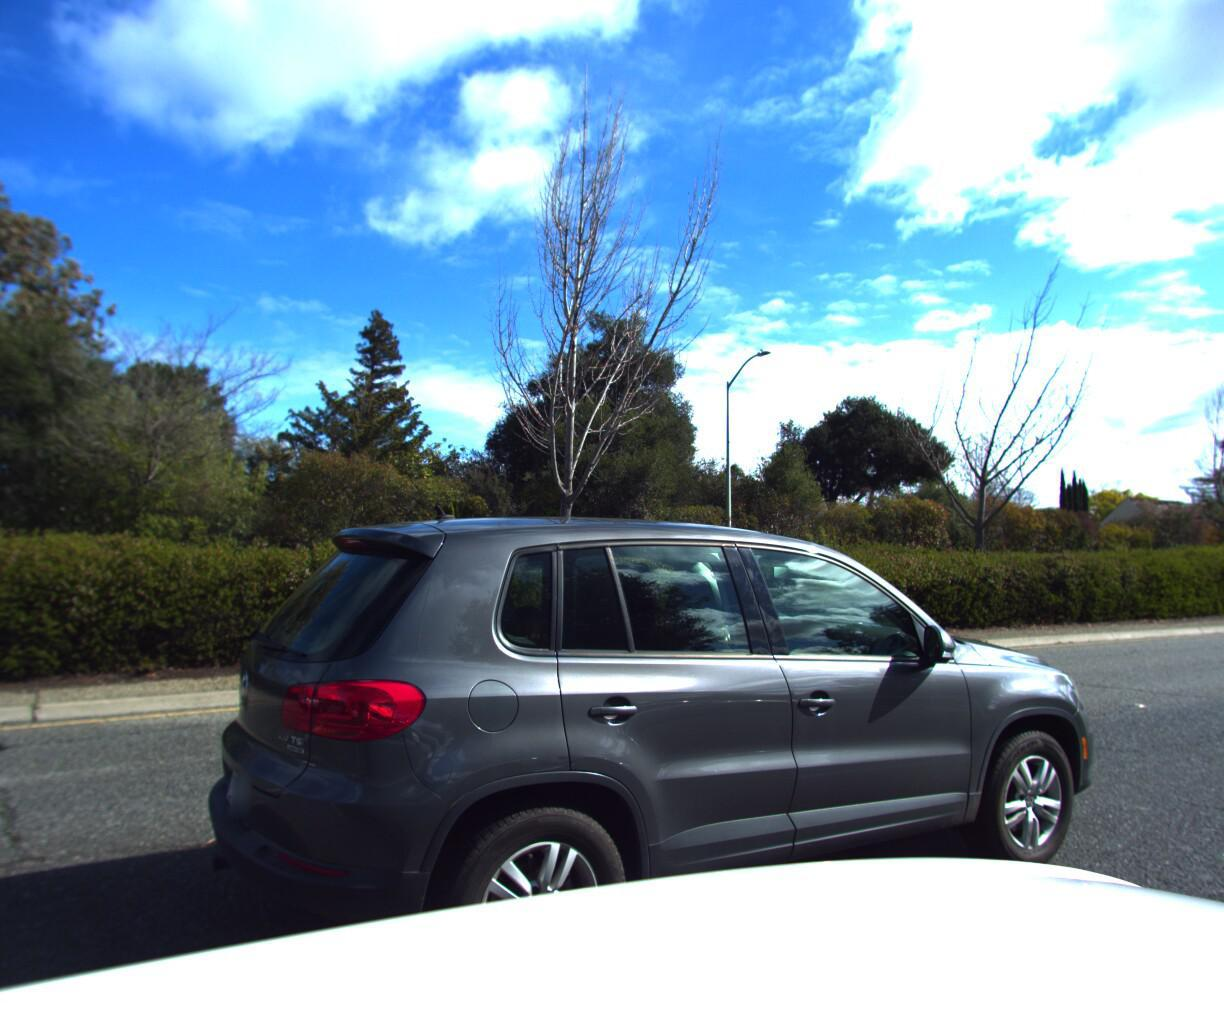car: (187, 484, 1110, 1024)
